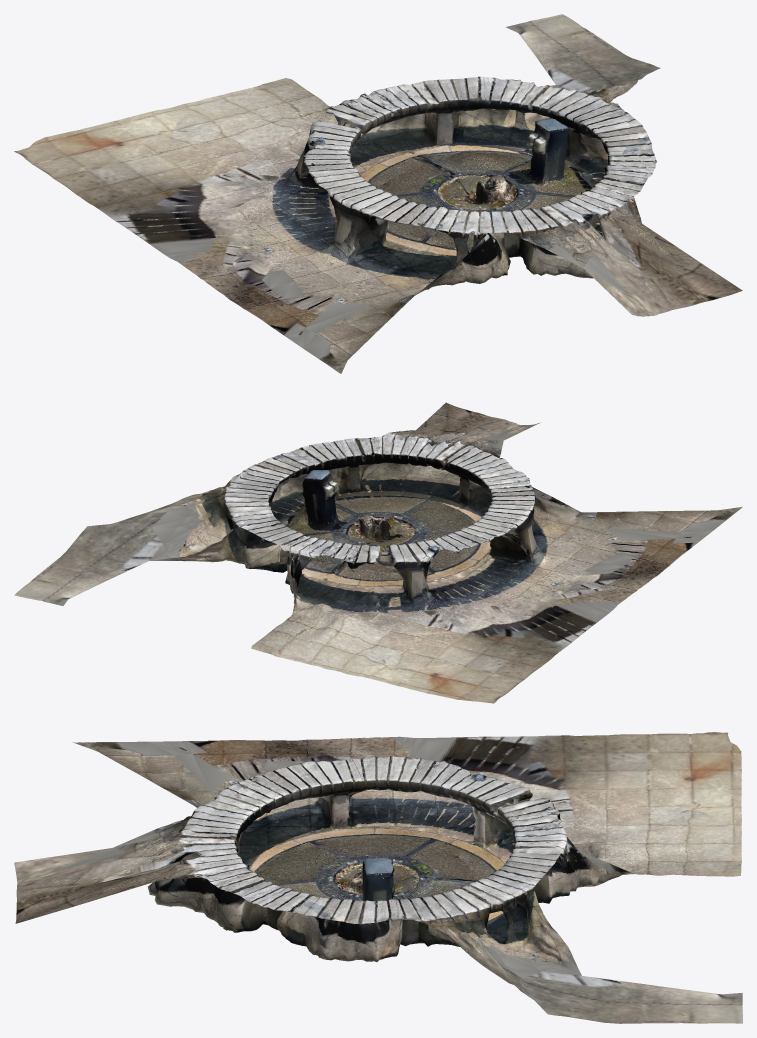
The model's file is bench2.glb.
The picture shows the model from 3 angles, top to bottom: view 1: azimuth 30°, elevation 25°; view 2: azimuth 150°, elevation 25°; view 3: azimuth 270°, elevation 25°; orthographic projection. The views are drawn at different scales.
Visible parts, largest first — view 1: baked_mesh; view 2: baked_mesh; view 3: baked_mesh.
Boxes of the visible parts, x1,y1,x2,y2 form: baked_mesh: (14, 14, 742, 373); baked_mesh: (14, 402, 742, 703); baked_mesh: (14, 732, 742, 1023).
Bounding box in the file's own units: 6.75 × 0.7513 × 7.16.
Materials: 1 (1 with a texture image).
